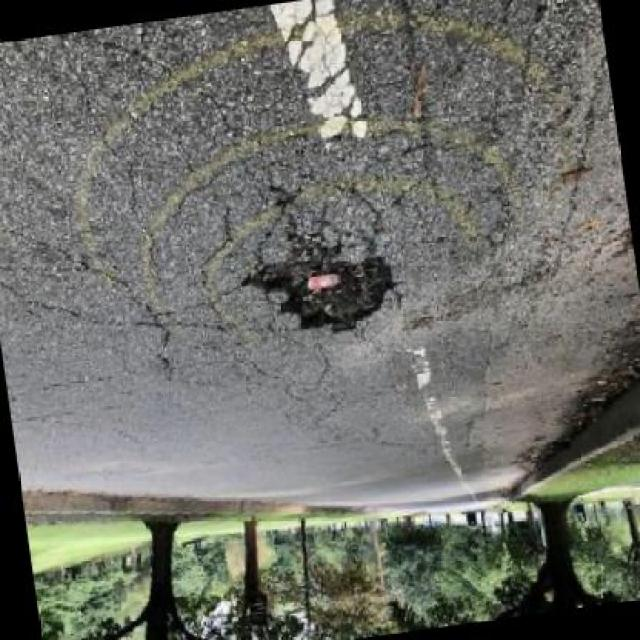pothole1: (238, 234, 408, 349)
